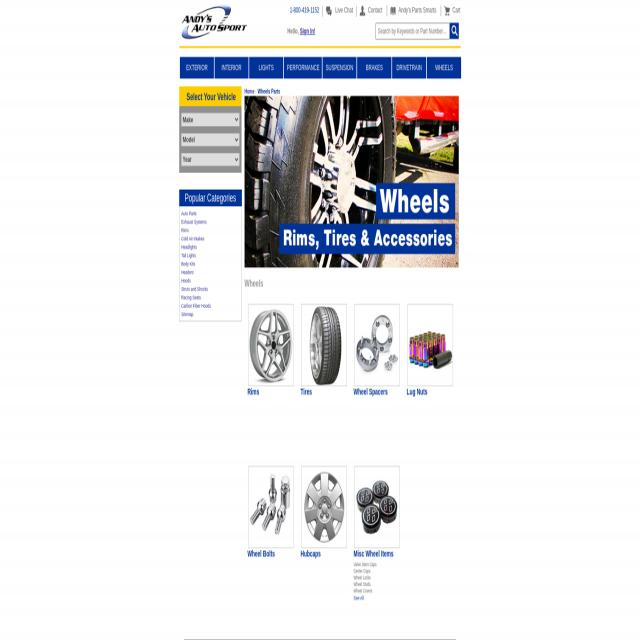button: (245, 96, 459, 268), (248, 304, 294, 386), (301, 304, 347, 386), (354, 304, 400, 386), (407, 304, 453, 386), (248, 466, 294, 548), (301, 466, 347, 548), (354, 466, 400, 548), (179, 4, 251, 40), (284, 56, 322, 78), (323, 56, 356, 79), (427, 56, 461, 78), (180, 56, 214, 78), (357, 57, 391, 79), (392, 57, 426, 79), (214, 57, 248, 78), (249, 57, 283, 78), (449, 22, 459, 39), (326, 6, 332, 17)
field: (376, 23, 450, 40), (182, 113, 240, 127), (182, 133, 240, 147), (182, 153, 240, 167)
